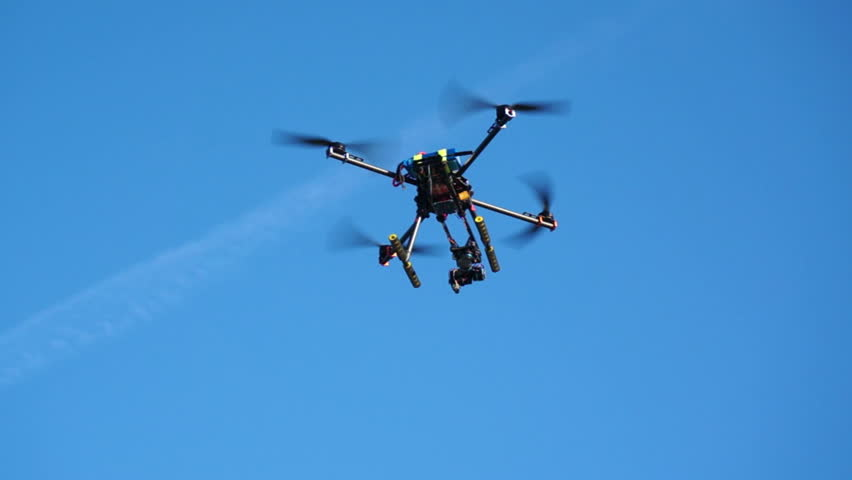drone: (269, 69, 580, 296)
